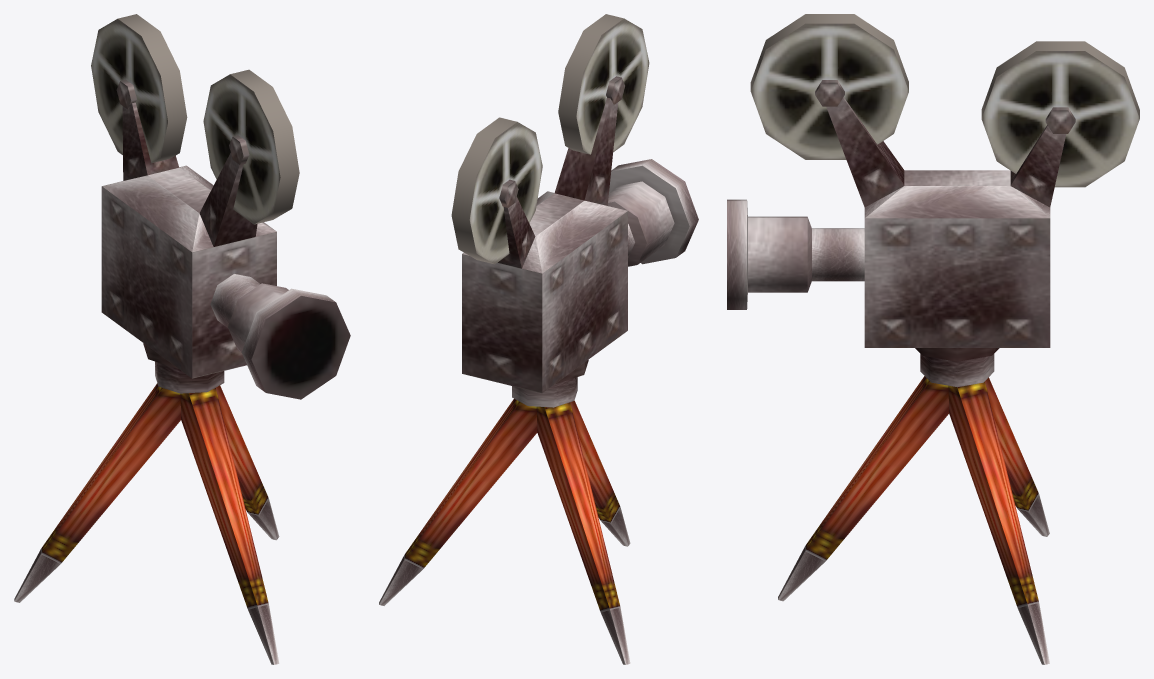
Rendered from Object_Camera.FBX.
The picture shows the model from 3 angles, left to right: view 1: azimuth 30°, elevation 25°; view 2: azimuth 150°, elevation 25°; view 3: azimuth 270°, elevation 25°; orthographic projection. The views are drawn at different scales.
Parts seen in each view (by area): view 1: Camera; view 2: Camera; view 3: Camera.
Part boxes in pixels (x1=…): Camera: x1=14, y1=14, x2=350, y2=664; Camera: x1=379, y1=14, x2=698, y2=664; Camera: x1=727, y1=14, x2=1139, y2=664.
Size of the model in its own units: 39.4 by 80.45 by 51.75.
